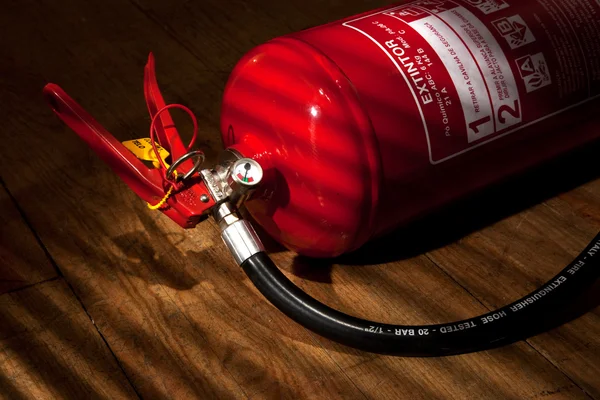fire_extinguisher: (42, 0, 599, 357), (218, 0, 599, 260)
